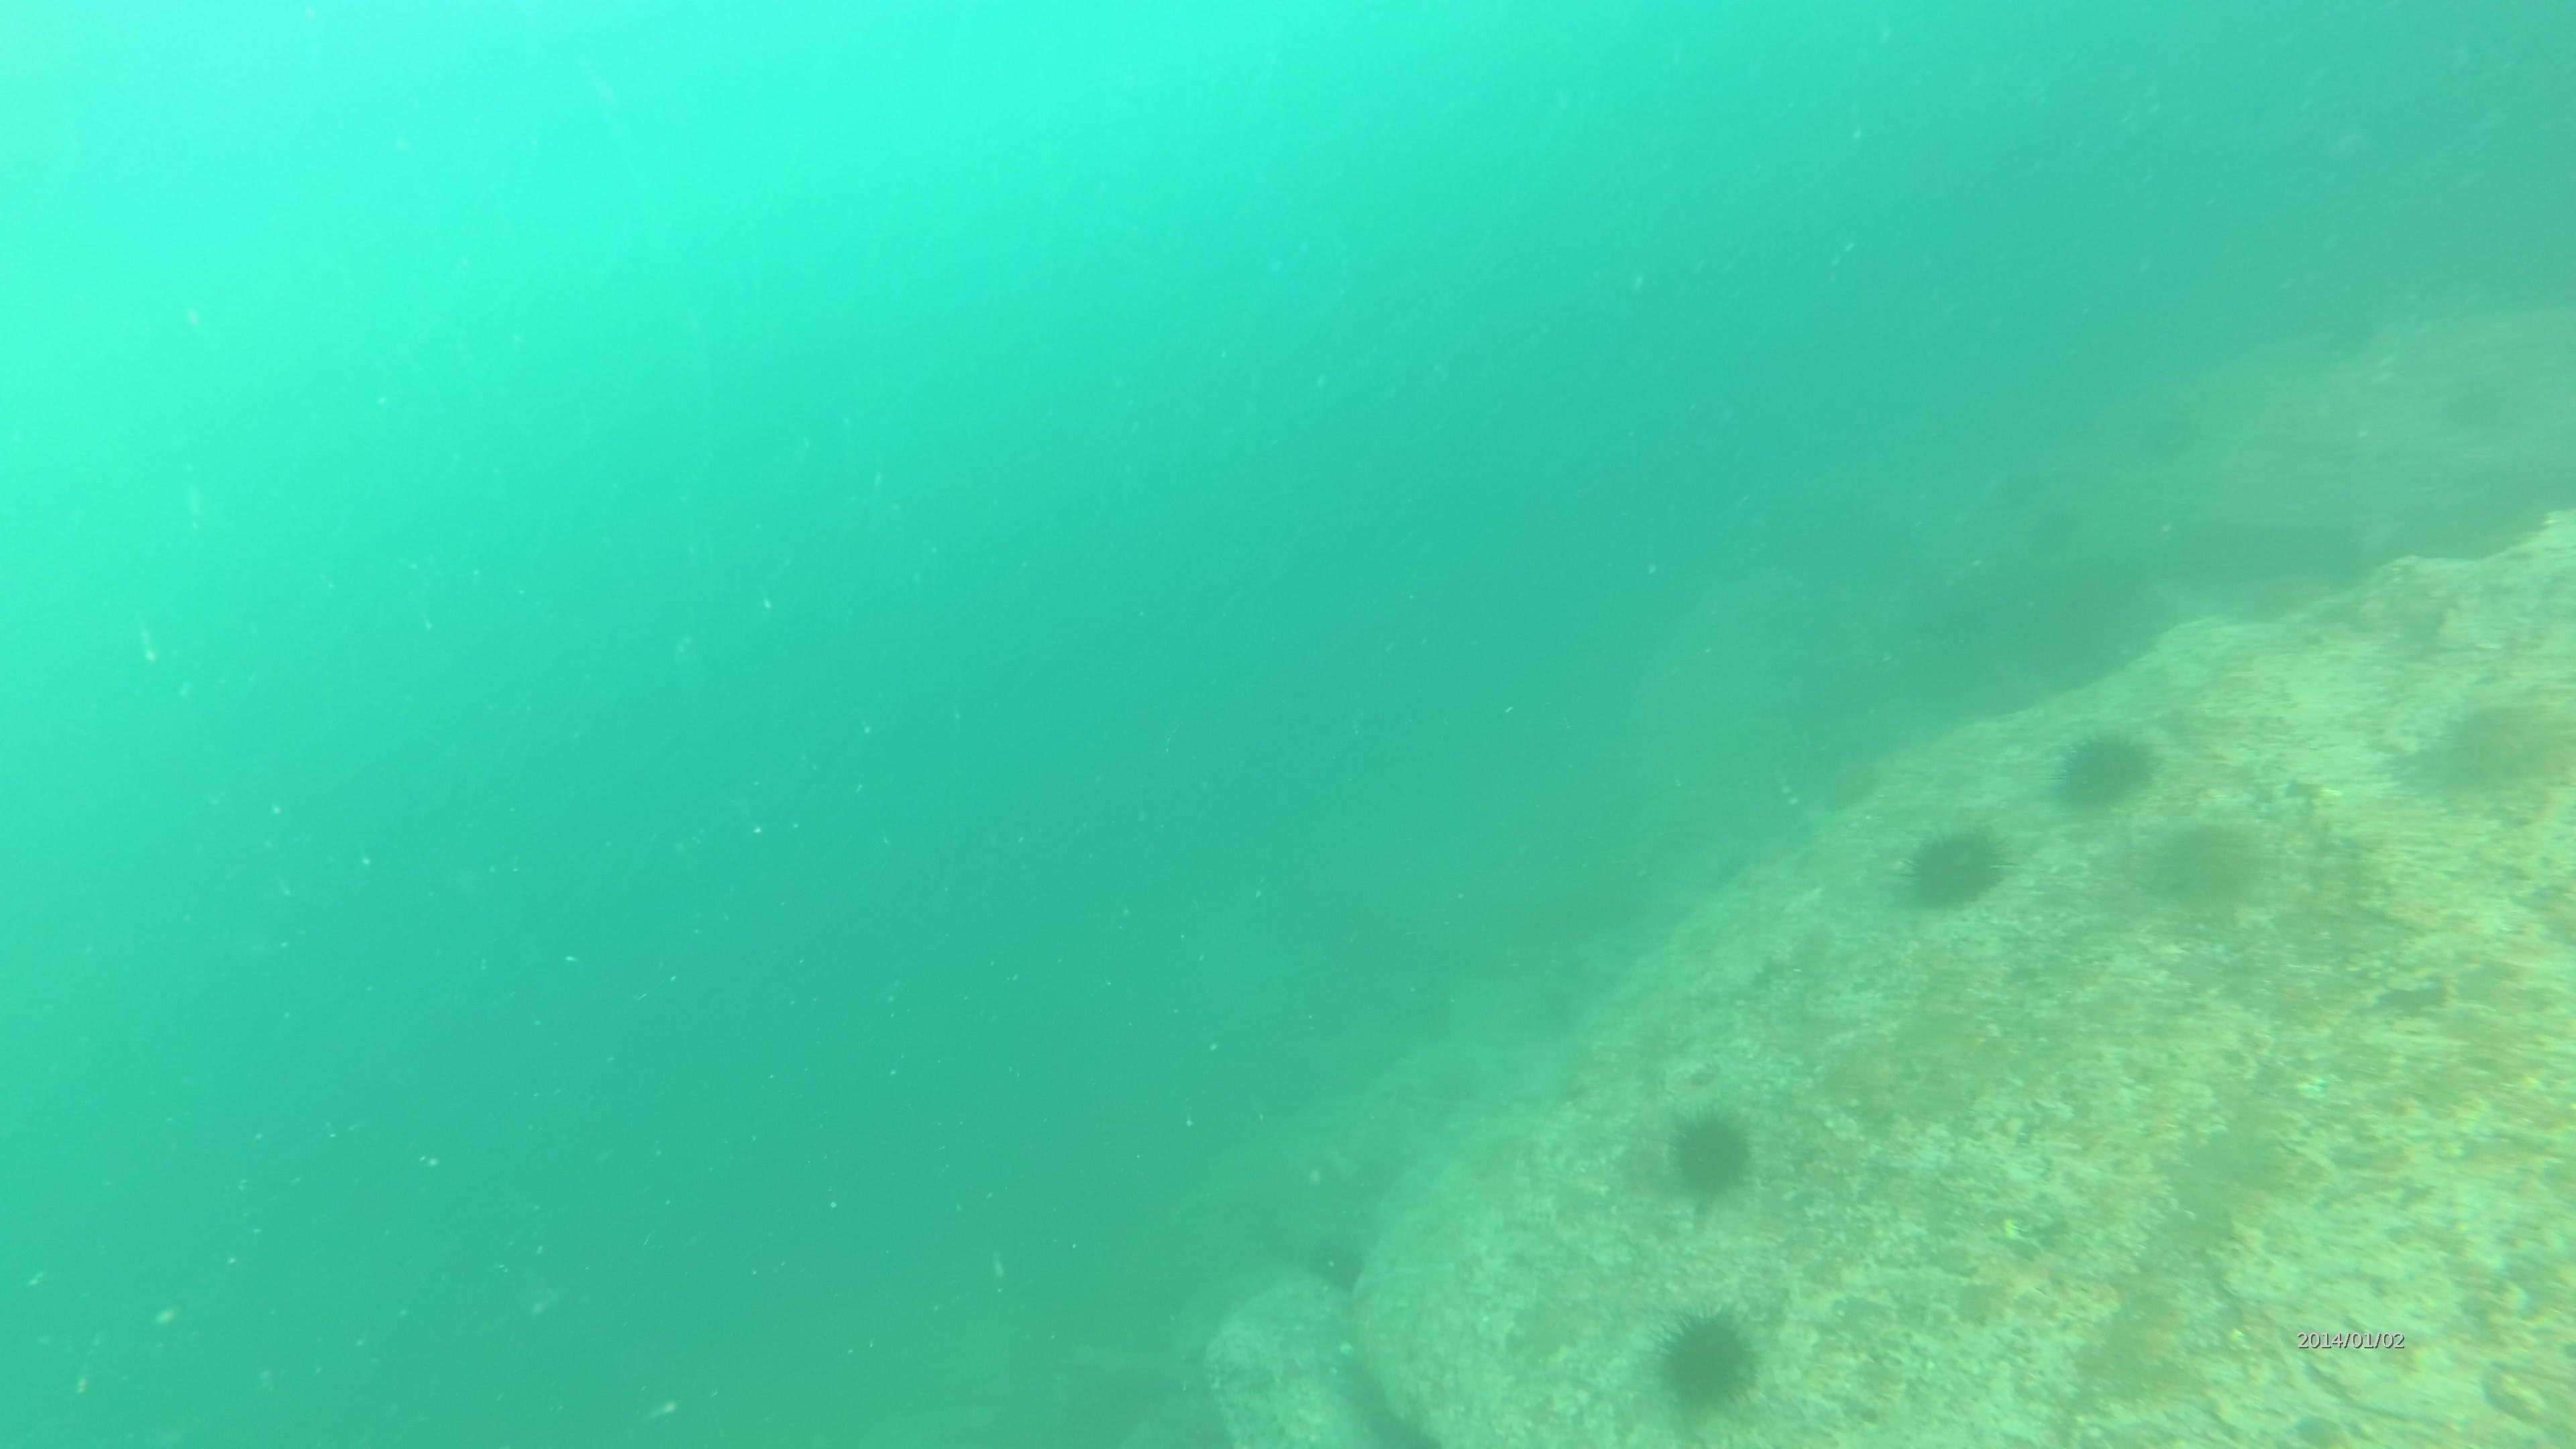echinus: (2426, 694, 2553, 800), (1649, 1304, 1766, 1419), (2151, 814, 2268, 915), (1897, 817, 2010, 916), (1661, 1102, 1760, 1207), (2051, 722, 2160, 816), (1302, 1226, 1373, 1297)
